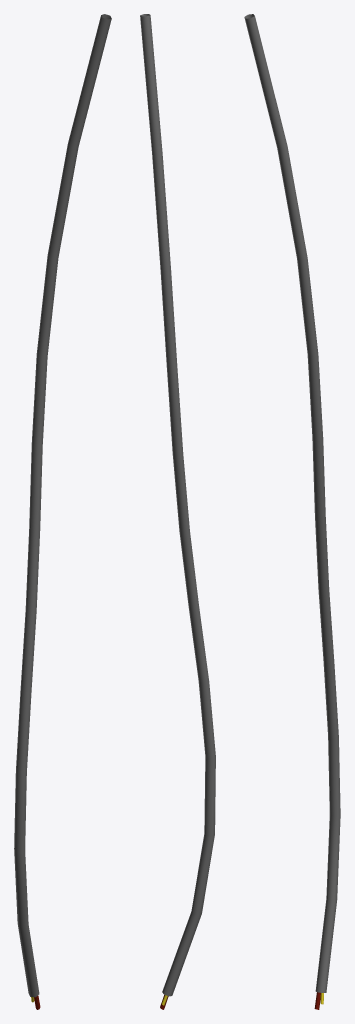
File: SM_Stage_Final_Wire_ceiling_02.fbx
3 renders of one model, left to right at view 1: azimuth 90°, elevation 25°; view 2: azimuth 210°, elevation 25°; view 3: azimuth 270°, elevation 25°, orthographic. The views are drawn at different scales.
Parts seen in each view (by area): view 1: SM_Stage_Final_Wire_ceiling_02; view 2: SM_Stage_Final_Wire_ceiling_02; view 3: SM_Stage_Final_Wire_ceiling_02.
Part boxes in pixels (x1=…): SM_Stage_Final_Wire_ceiling_02: x1=14, y1=14, x2=111, y2=1009; SM_Stage_Final_Wire_ceiling_02: x1=140, y1=14, x2=215, y2=1009; SM_Stage_Final_Wire_ceiling_02: x1=244, y1=14, x2=340, y2=1009.
Size of the model in its own units: 12.57 by 244 by 21.57.
Materials: 1 (1 with a texture image).
